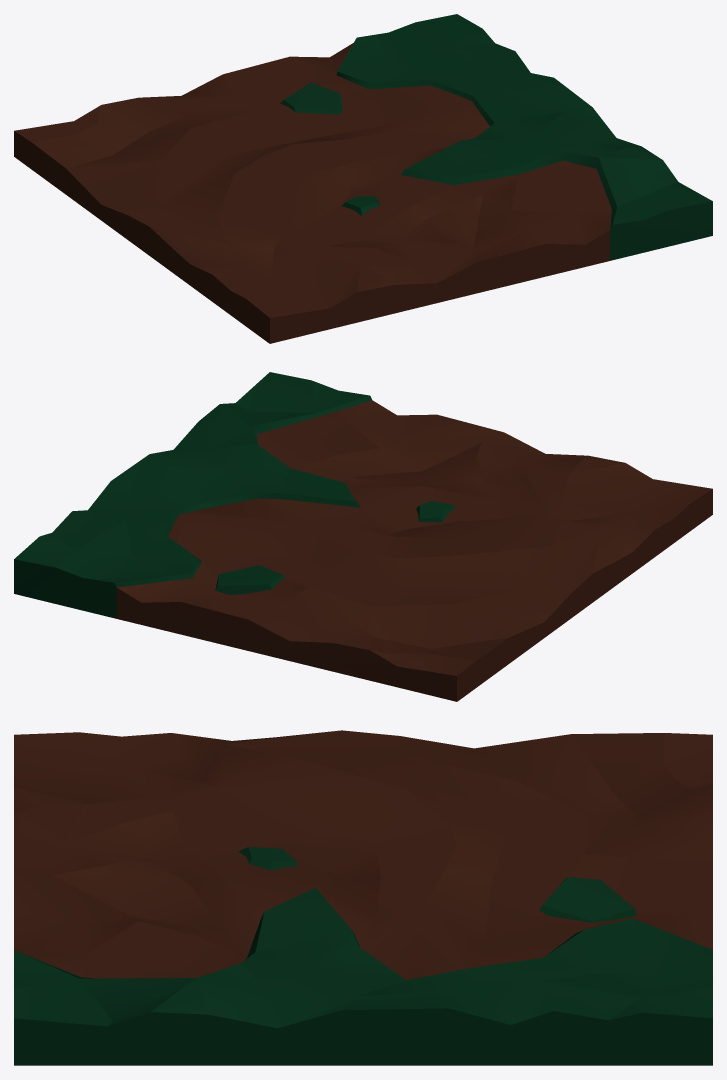
Rendered from Ground_Edge_R.fbx.
The picture shows the model from 3 angles, top to bottom: view 1: azimuth 30°, elevation 25°; view 2: azimuth 150°, elevation 25°; view 3: azimuth 270°, elevation 25°; orthographic projection. The views are drawn at different scales.
Parts seen in each view (by area): view 1: Ground_Edge_R; view 2: Ground_Edge_R; view 3: Ground_Edge_R.
Boxes of the visible parts, x1=… form: Ground_Edge_R: x1=14, y1=14, x2=712, y2=343; Ground_Edge_R: x1=14, y1=372, x2=712, y2=701; Ground_Edge_R: x1=14, y1=730, x2=712, y2=1065.
Bounding box in the file's own units: 147 × 13.25 × 147.
